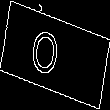O_S: (38, 25, 72, 85)
